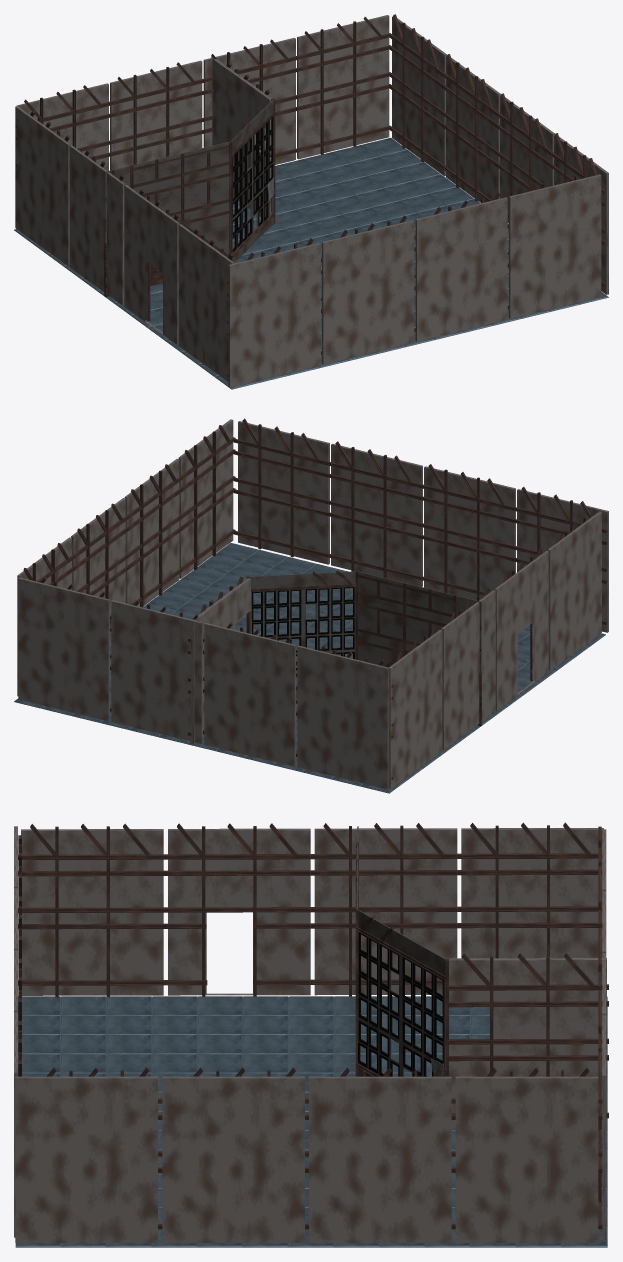
File: Escenario.fbx
3 views of the same model, one above another, from view 1: azimuth 30°, elevation 25°; view 2: azimuth 150°, elevation 25°; view 3: azimuth 270°, elevation 25° (orthographic). The views are drawn at different scales.
Visible parts, largest first — view 1: Cube.002, Cube.051, Cube.005, Cube.001, piso, Cube.065; view 2: Cube.051, Cube.002, Cube.005, Cube.001, Cube.065, piso; view 3: Cube.001, Cube.005, piso, Cube.065, Cube.051, Cube.002.
Boxes of the visible parts, box(x1,y1,x2,y2) form: Cube.002: box(227, 169, 602, 387); Cube.051: box(15, 15, 390, 220); Cube.005: box(15, 106, 234, 381); Cube.001: box(388, 14, 608, 294); piso: box(14, 137, 608, 389); Cube.065: box(104, 57, 275, 296); Cube.051: box(18, 577, 393, 789); Cube.002: box(234, 418, 608, 632); Cube.005: box(388, 508, 601, 789); Cube.001: box(17, 419, 235, 696); Cube.065: box(188, 570, 481, 744); piso: box(14, 543, 605, 793); Cube.001: box(15, 1067, 602, 1242); Cube.005: box(18, 822, 603, 997); piso: box(15, 996, 607, 1247); Cube.065: box(355, 826, 608, 1128); Cube.051: box(598, 826, 606, 1240); Cube.002: box(14, 826, 21, 1237).
Bounding box in the file's own units: 501 × 164 × 500.
